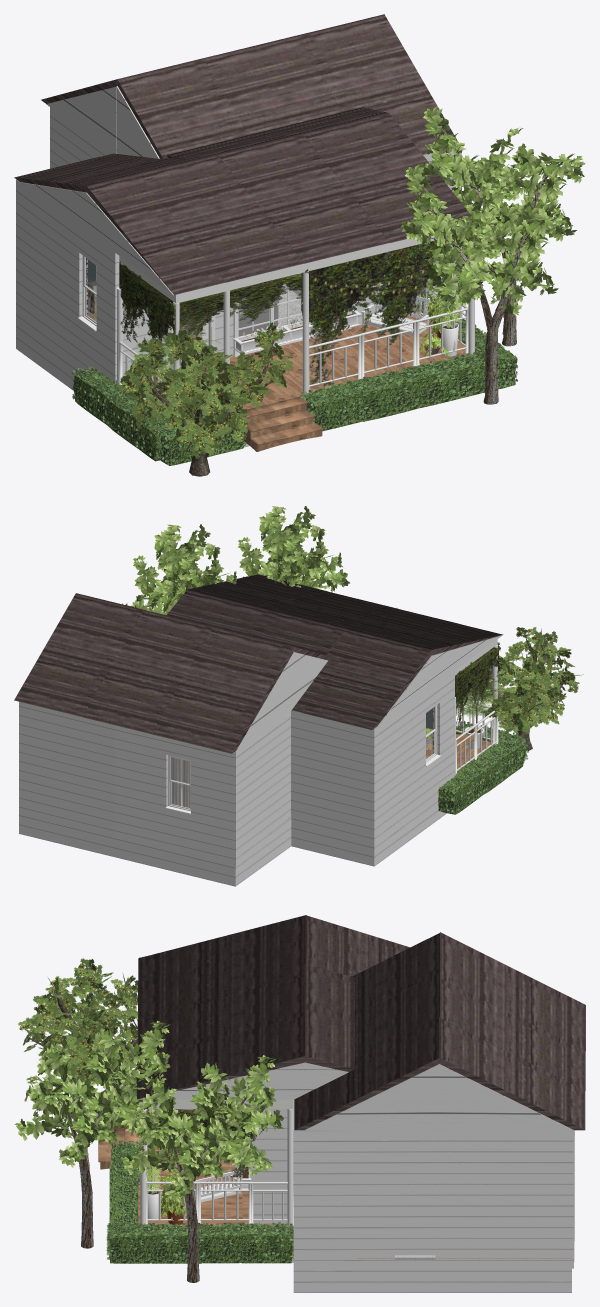
Rendered from tiny_home.glb.
3 views of the same model, one above another, from view 1: azimuth 30°, elevation 25°; view 2: azimuth 150°, elevation 25°; view 3: azimuth 270°, elevation 25° (orthographic). The views are drawn at different scales.
Parts seen in each view (by area): view 1: Object_31, Object_41, Object_72, Object_21, Object_37, Object_33, Object_71, Object_5, Object_32, Object_28, Object_23, Object_4 (+9 smaller); view 2: Object_72, Object_31, Object_41, Object_37, Object_71, Object_33, Object_32, Object_21, Object_51, Object_23, Object_50, Object_6 (+1 smaller); view 3: Object_31, Object_72, Object_41, Object_71, Object_33, Object_37, Object_32, Object_42, Object_5, Object_28, Object_23, Object_4 (+3 smaller).
Part boxes in pixels (x1=…): Object_31: x1=14, y1=14, x2=470, y2=294; Object_41: x1=400, y1=106, x2=585, y2=315; Object_72: x1=16, y1=107, x2=476, y2=447; Object_21: x1=119, y1=237, x2=468, y2=386; Object_37: x1=116, y1=321, x2=293, y2=459; Object_33: x1=73, y1=292, x2=516, y2=465; Object_71: x1=19, y1=86, x2=173, y2=295; Object_5: x1=141, y1=312, x2=473, y2=419; Object_32: x1=71, y1=289, x2=517, y2=465; Object_28: x1=117, y1=256, x2=474, y2=407; Object_23: x1=119, y1=285, x2=468, y2=409; Object_4: x1=239, y1=396, x2=323, y2=451; Object_72: x1=19, y1=670, x2=454, y2=886; Object_31: x1=14, y1=574, x2=502, y2=753; Object_41: x1=122, y1=506, x2=349, y2=615; Object_37: x1=468, y1=627, x2=583, y2=733; Object_71: x1=237, y1=634, x2=503, y2=749; Object_33: x1=438, y1=724, x2=526, y2=814; Object_32: x1=438, y1=721, x2=528, y2=814; Object_21: x1=455, y1=645, x2=498, y2=729; Object_51: x1=170, y1=707, x2=435, y2=808; Object_23: x1=456, y1=700, x2=498, y2=773; Object_50: x1=165, y1=705, x2=441, y2=814; Object_6: x1=171, y1=757, x2=190, y2=807; Object_31: x1=137, y1=915, x2=585, y2=1130; Object_72: x1=251, y1=1109, x2=574, y2=1292; Object_41: x1=14, y1=1020, x2=283, y2=1202; Object_71: x1=137, y1=956, x2=574, y2=1130; Object_33: x1=109, y1=1078, x2=292, y2=1263; Object_37: x1=18, y1=958, x2=138, y2=1088; Object_32: x1=106, y1=1075, x2=293, y2=1261; Object_42: x1=52, y1=1054, x2=252, y2=1282; Object_5: x1=138, y1=1109, x2=571, y2=1258; Object_28: x1=140, y1=1101, x2=293, y2=1226; Object_23: x1=146, y1=1109, x2=293, y2=1225; Object_4: x1=98, y1=1123, x2=139, y2=1169.
Size of the model in its own units: 11.53 by 5.44 by 11.98.
98 materials, 76 textured.
